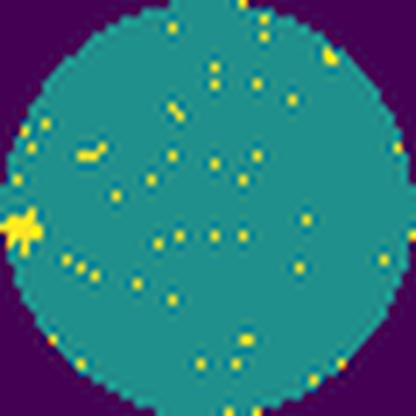Loc: (0, 204, 46, 253)
